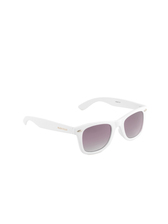glasses: (21, 98, 151, 152)
